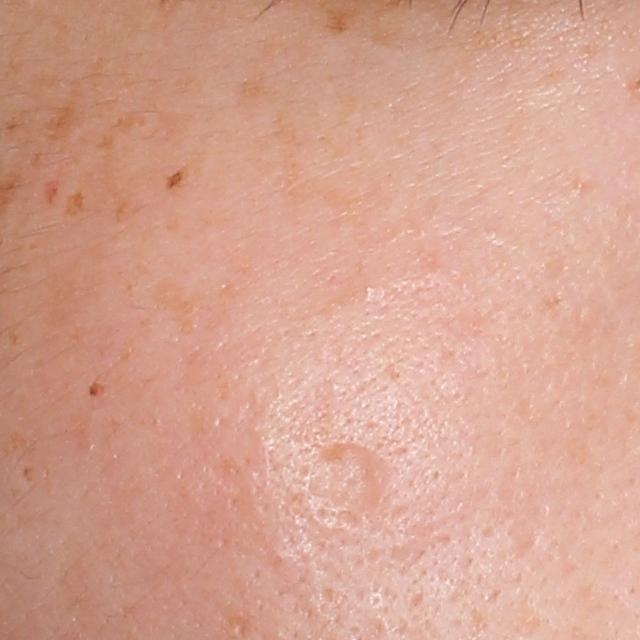atrophic_scar: (298, 431, 405, 557)
melasma: (267, 112, 326, 218), (152, 272, 211, 339), (365, 21, 425, 58), (42, 98, 79, 144), (236, 70, 273, 107), (1, 105, 39, 138), (108, 109, 149, 137), (324, 7, 360, 36), (163, 165, 191, 196), (61, 187, 86, 218), (28, 144, 49, 170), (113, 195, 128, 227), (95, 135, 119, 154), (85, 380, 107, 397)
